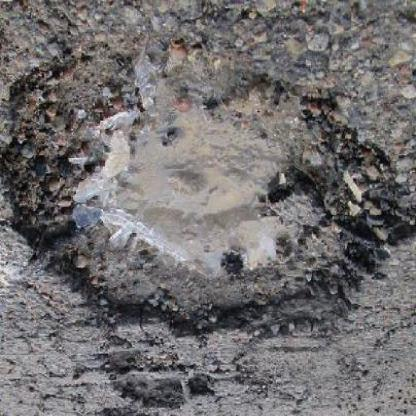pothole: (1, 37, 414, 345), (93, 339, 215, 416)
